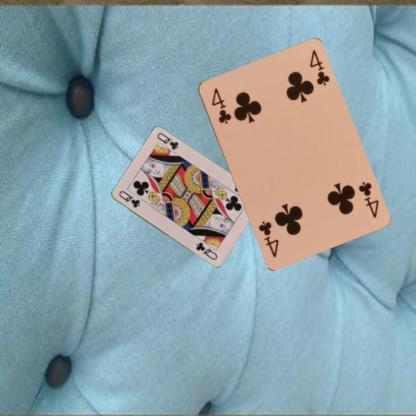4c: (208, 85, 233, 125), (355, 179, 380, 219)
Qc: (116, 188, 141, 209)
